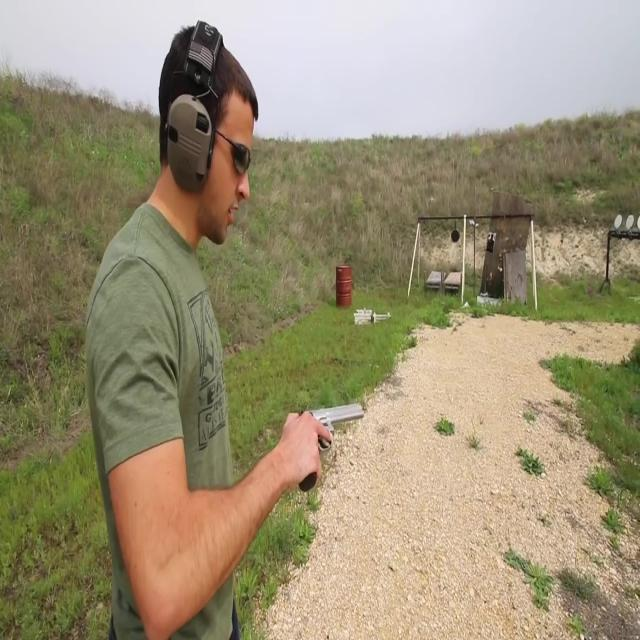Weapon: (284, 357, 375, 501)
